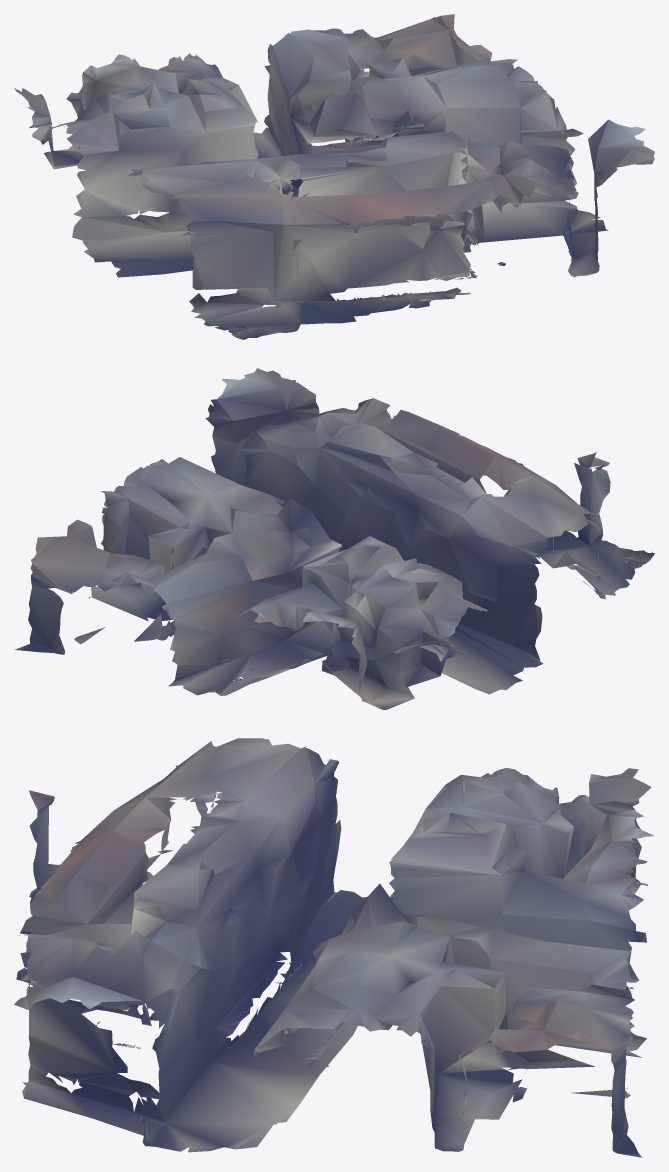
3 renders of one model, top to bottom at view 1: azimuth 30°, elevation 25°; view 2: azimuth 150°, elevation 25°; view 3: azimuth 270°, elevation 25°, orthographic. The views are drawn at different scales.
Bounding box in the file's own units: 108 × 30.35 × 108.
